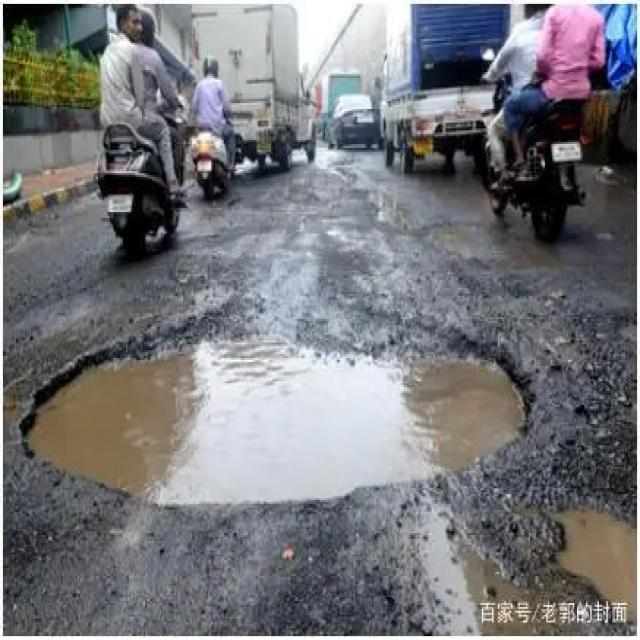Pothole: (16, 331, 536, 498), (546, 494, 639, 623)
